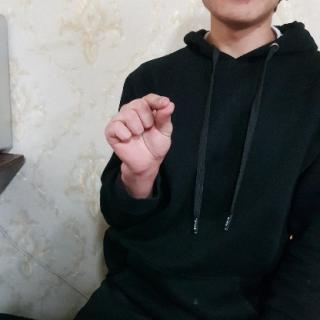FAA: (104, 90, 176, 181)
